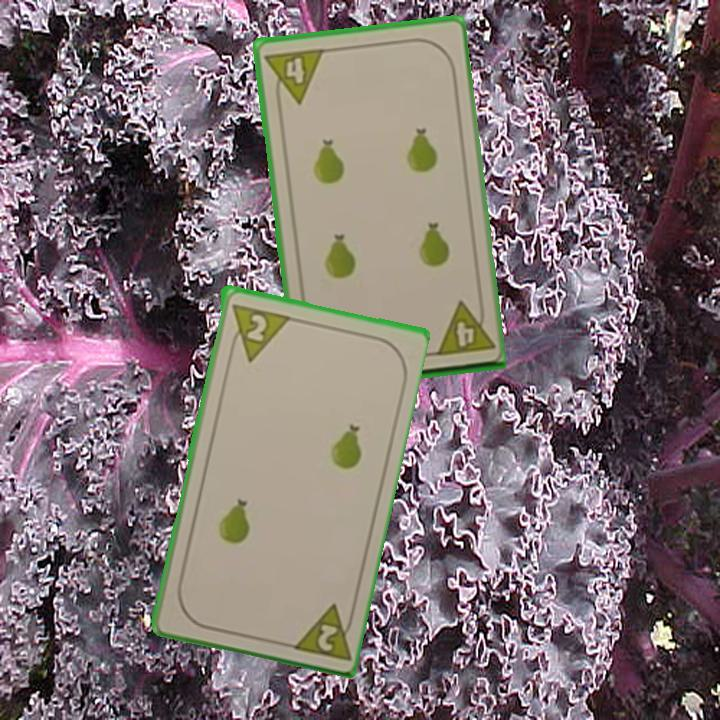2p: (285, 599, 358, 663), (224, 299, 290, 364)
4p: (262, 44, 327, 109), (430, 296, 495, 359)
